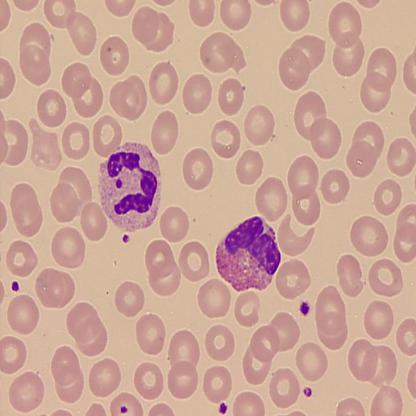Eosinophil: (214, 214, 281, 290)
